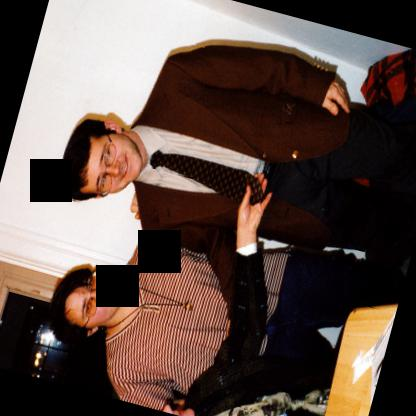backpack: (360, 48, 416, 111)
